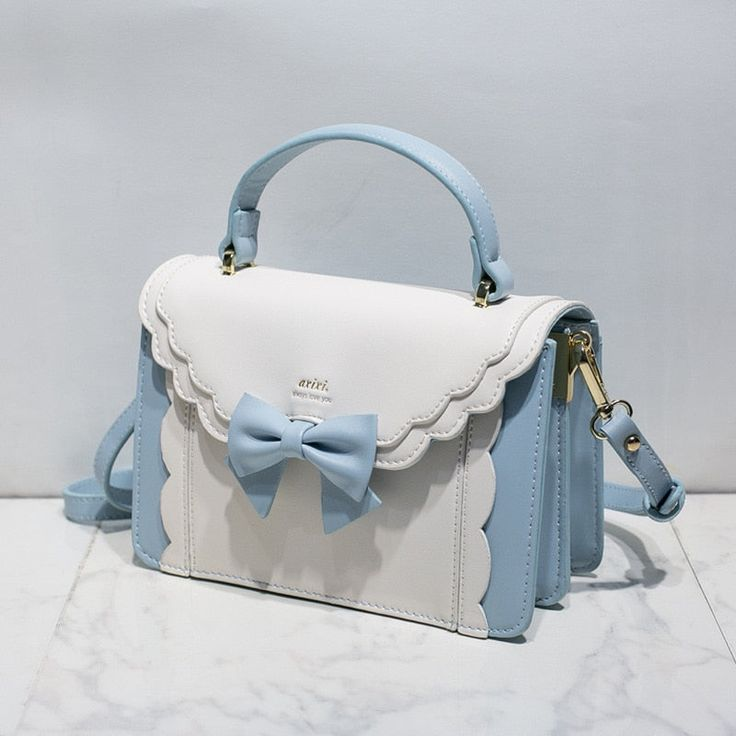cuero: (62, 123, 685, 641)
